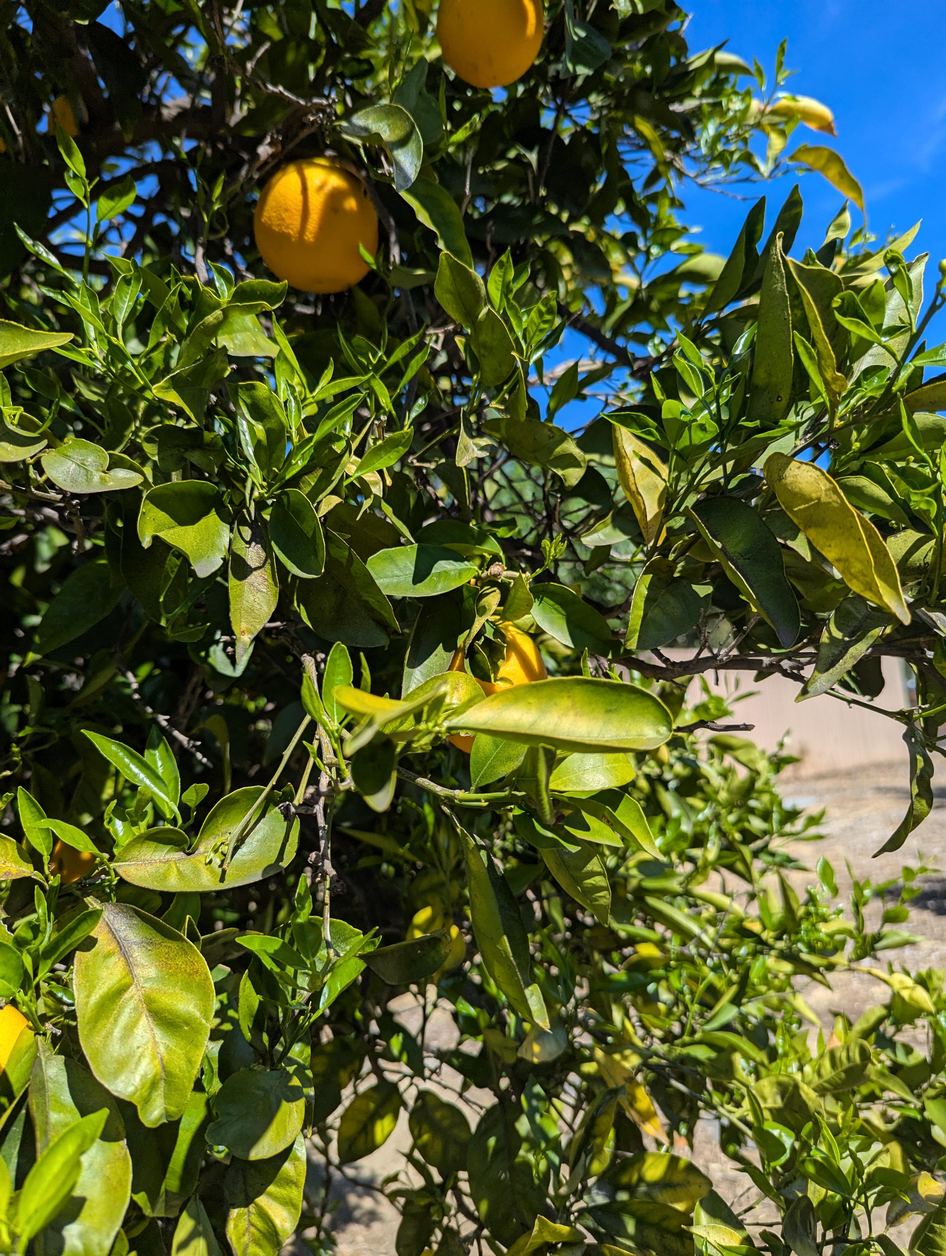orange: (254, 158, 381, 295), (435, 615, 547, 756), (436, 0, 544, 86), (0, 1000, 39, 1094), (48, 834, 104, 890)
